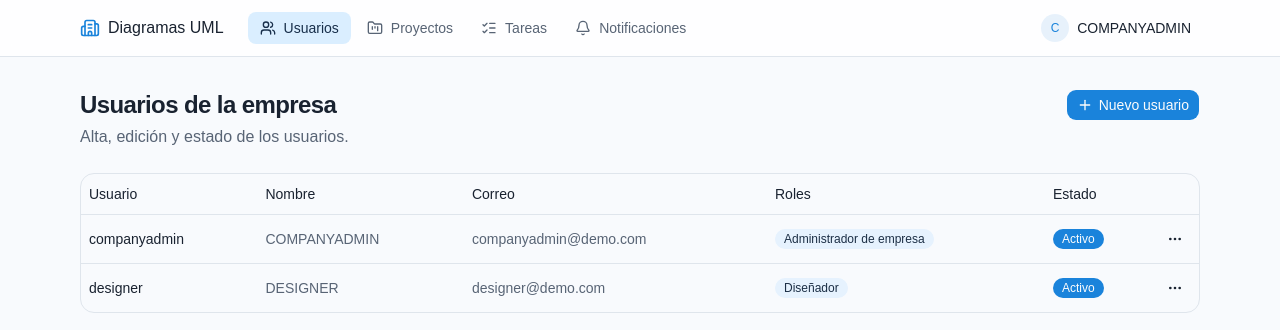
Test case: CU-03 Gestionar usuarios de empresa › no ofrece desactivar al propio usuario
Click the button named "Acciones de companyadmin": (1175, 238) [1159, 222, 1191, 254]
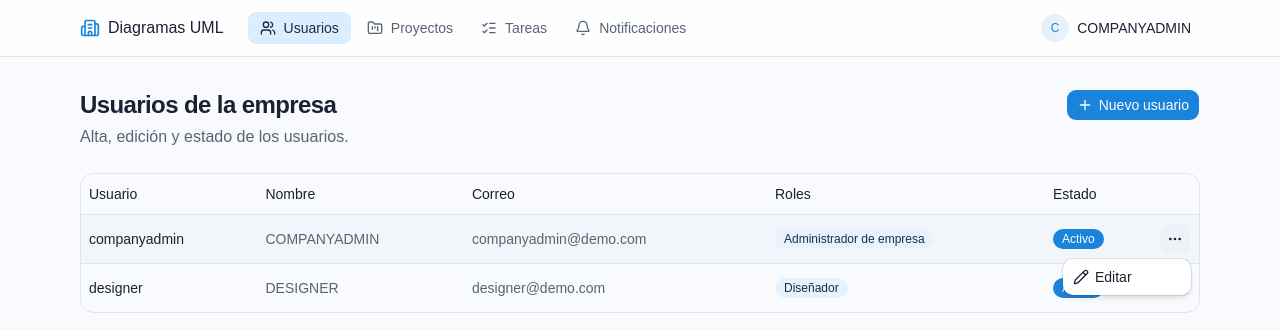
Expected: the menu item "Editar" is shown, [1073, 269, 1132, 285]
